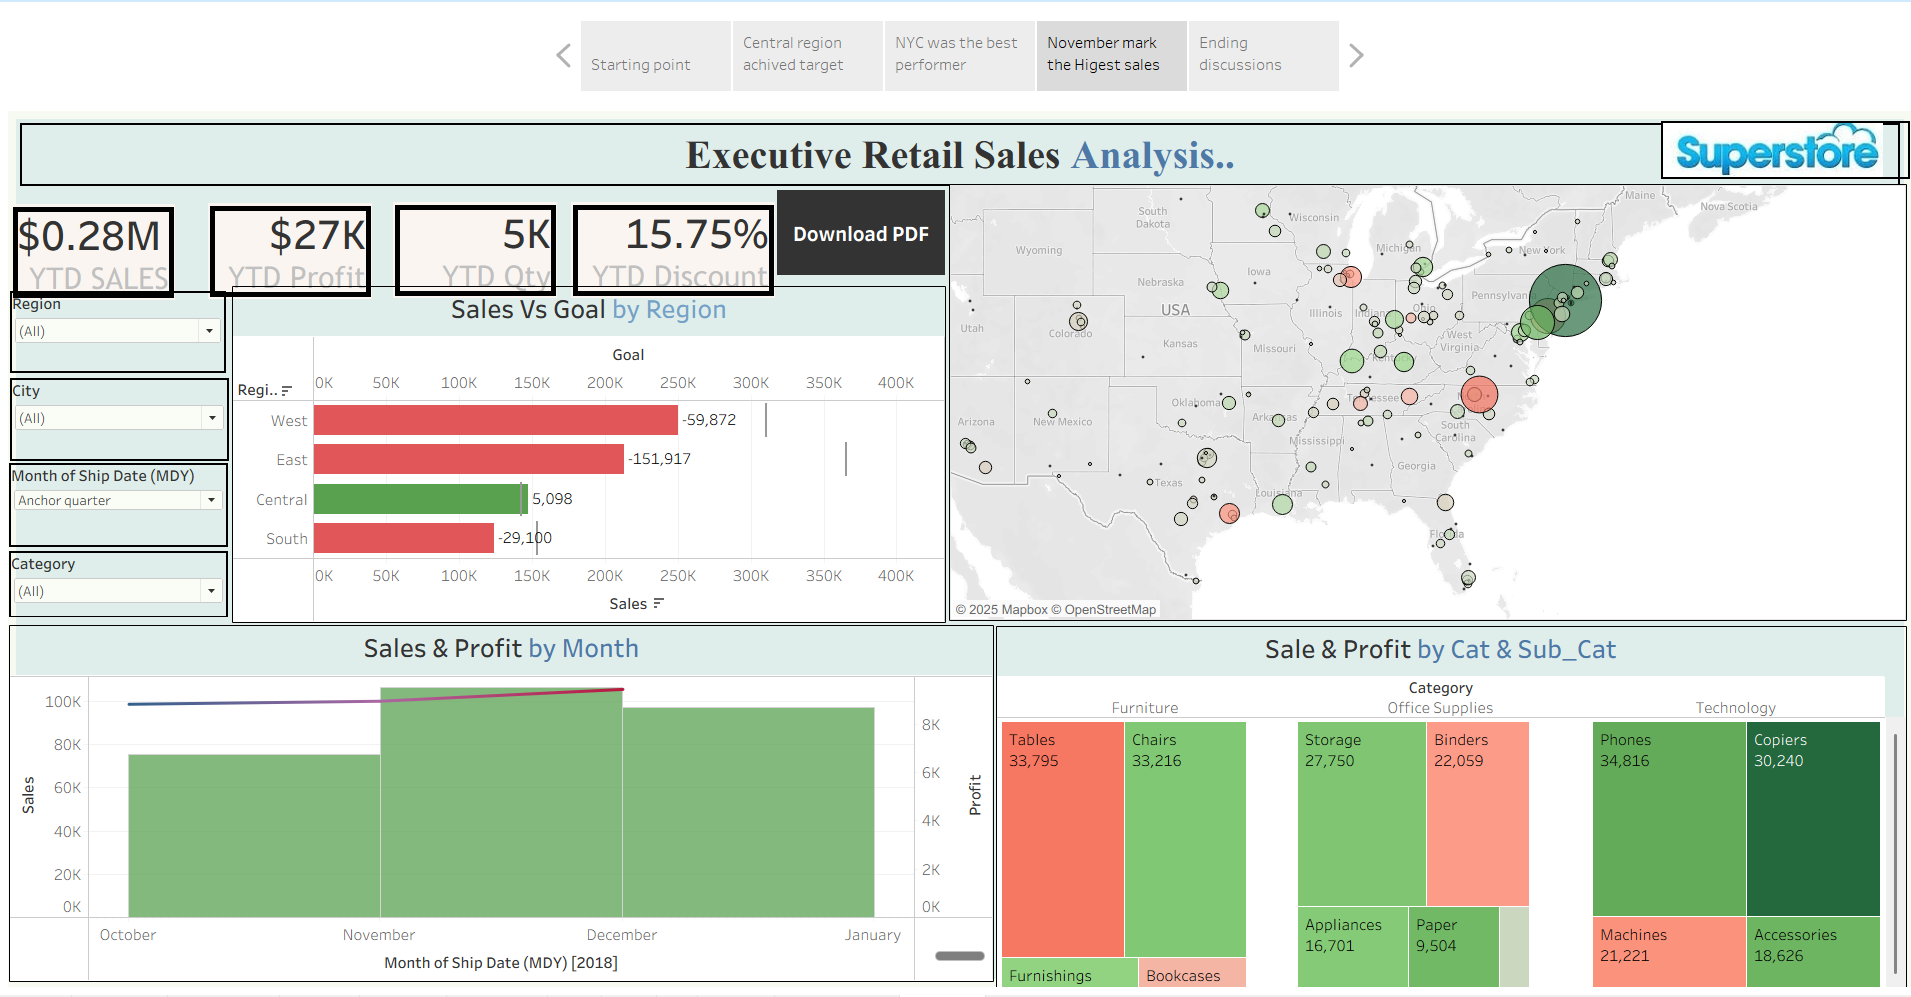

This screenshot's page, from the dashboard's own definition file:
{"tool":"tableau","page":{"name":"Dashboard 1","canvas":[1000,1000],"units":"permille","ordinal":0},"visuals":[{"type":"worksheet","title":"Qty","mark":"Automatic","box":[202.1,7.5,120.1,339.6]},{"type":"worksheet","title":"discount","mark":"Automatic","box":[295.8,7.5,118.9,283.4]},{"type":"worksheet","title":"Profit","mark":"Automatic","box":[104.9,8.7,121.3,226]},{"type":"worksheet","title":"Sales","mark":"Automatic","box":[1.8,10,107.8,229.7]},{"type":"title","box":[4.7,10,990.6,88.6]},{"type":"image","param":"Image/download.jpeg","box":[868.2,11.2,130.6,66.2]},{"type":"worksheet","title":"City wise","mark":"Automatic","box":[494.4,83.7,503.2,499.4]},{"type":"dashboard-object","box":[404.1,89.9,88.5,97.4]},{"type":"worksheet","title":"Sales Vs Goal","mark":"Automatic","rows":["Region"],"cols":["Sales","Goal"],"box":[117.8,199.8,374.9,384.5]},{"type":"filter","title":"Sales Vs Goal","param":"[federated.1a60av20npun2j1cgu62n0ei90px].[none:Region:nk]","box":[1.2,206,113.7,93.6]},{"type":"filter","title":"City wise","param":"[federated.1a60av20npun2j1cgu62n0ei90px].[none:City:nk]","box":[1.2,304.6,114.8,94.9]},{"type":"filter","title":"Time_series","param":"[federated.1a60av20npun2j1cgu62n0ei90px].[tmn:Ship Date (MDY):qk]","box":[0.6,402,114.8,96.1]},{"type":"filter","title":"Tree_map","param":"[federated.1a60av20npun2j1cgu62n0ei90px].[none:Category:nk]","box":[0.6,501.9,114.8,76.2]},{"type":"worksheet","title":"Time_series","mark":"Automatic","rows":["Sales","Profit"],"cols":["Ship Date (MDY)"],"box":[0.6,586.8,517.3,407]}]}

Visuals, with their boxes on the dashboard's canvas, which has no fixed pixel size, in thousandths of its width and height (x1, y1, x2, y2). These are canvas units, not pixel positions in the 1911x997 screenshot, which may show the page scaled, cropped or inside an application window:
"Qty" worksheet: region(202, 8, 322, 347)
"discount" worksheet: region(296, 8, 415, 291)
"Profit" worksheet: region(105, 9, 226, 235)
"Sales" worksheet: region(2, 10, 110, 240)
title: region(5, 10, 995, 99)
image: region(868, 11, 999, 77)
"City wise" worksheet: region(494, 84, 998, 583)
dashboard-object: region(404, 90, 493, 187)
"Sales Vs Goal" worksheet: region(118, 200, 493, 584)
"Sales Vs Goal" filter: region(1, 206, 115, 300)
"City wise" filter: region(1, 305, 116, 400)
"Time_series" filter: region(1, 402, 115, 498)
"Tree_map" filter: region(1, 502, 115, 578)
"Time_series" worksheet: region(1, 587, 518, 994)
